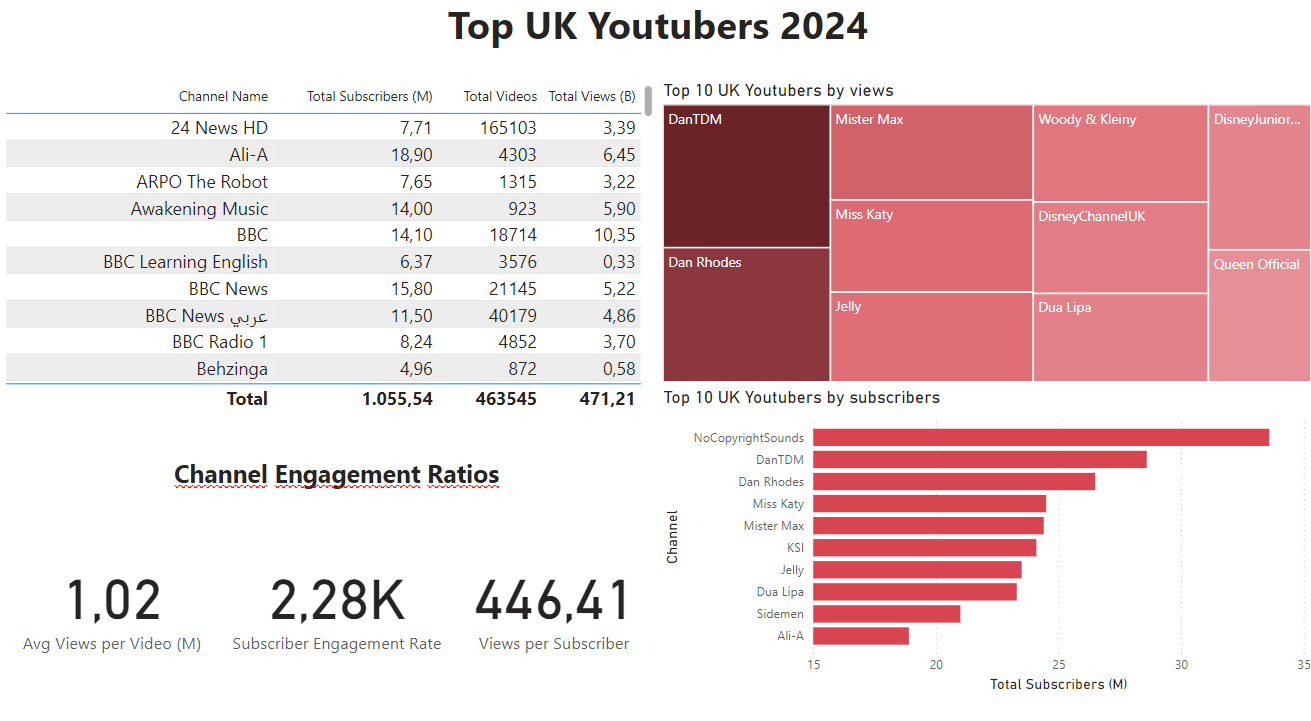

What the dashboard file says about the page in this screenshot:
{"tool":"powerbi","page":{"name":"Page 1","canvas":[1280,720],"ordinal":0},"visuals":[{"type":"textbox","box":[392,0,496,84.6],"z":0},{"type":"tableEx","fields":{"Values":["Sheet1.name","Sheet1.Total Subscribers (M)","Sheet1.Total Videos","Sheet1.Total Views (B)"]},"box":[0,84.6,640,325.8],"z":1000},{"type":"treemap","title":"Top 10 UK Youtubers by views","fields":{"Group":["Sheet1.name"],"Values":["Sheet1.Total Views (B)"]},"box":[640,84.6,640,298.6],"z":2000},{"type":"card","fields":{"Values":["Sheet1.Avg Views per Video (M)"]},"box":[0,502.9,217.9,181.9],"z":2001},{"type":"card","fields":{"Values":["Sheet1.Subscriber Engagement Rate"]},"box":[217.9,502.9,219.8,181.9],"z":2002},{"type":"card","fields":{"Values":["Sheet1.Views per Subscriber"]},"box":[437.7,502.9,202.3,181.9],"z":2003},{"type":"clusteredBarChart","title":"Top 10 UK Youtubers by subscribers","fields":{"Category":["Sheet1.name"],"Y":["Sheet1.Total Subscribers (M)"]},"box":[640,383.2,640,301.5],"z":2004},{"type":"textbox","box":[163.4,445.5,327.8,57.4],"z":2005}]}

Visuals, with their boxes in screenshot pixels (x1, y1, x2, y2), scaled from the page's 1280x720 canvas onto the 1311x721 screenshot:
textbox: pyautogui.locateOnScreen(401, 0, 910, 85)
tableEx - Sheet1.name x Sheet1.Total Subscribers (M): pyautogui.locateOnScreen(0, 85, 656, 411)
"Top 10 UK Youtubers by views" treemap: pyautogui.locateOnScreen(656, 85, 1310, 384)
card - Sheet1.Avg Views per Video (M): pyautogui.locateOnScreen(0, 504, 223, 686)
card - Sheet1.Subscriber Engagement Rate: pyautogui.locateOnScreen(223, 504, 448, 686)
card - Sheet1.Views per Subscriber: pyautogui.locateOnScreen(448, 504, 656, 686)
"Top 10 UK Youtubers by subscribers" clusteredBarChart: pyautogui.locateOnScreen(656, 384, 1310, 686)
textbox: pyautogui.locateOnScreen(167, 446, 503, 504)
